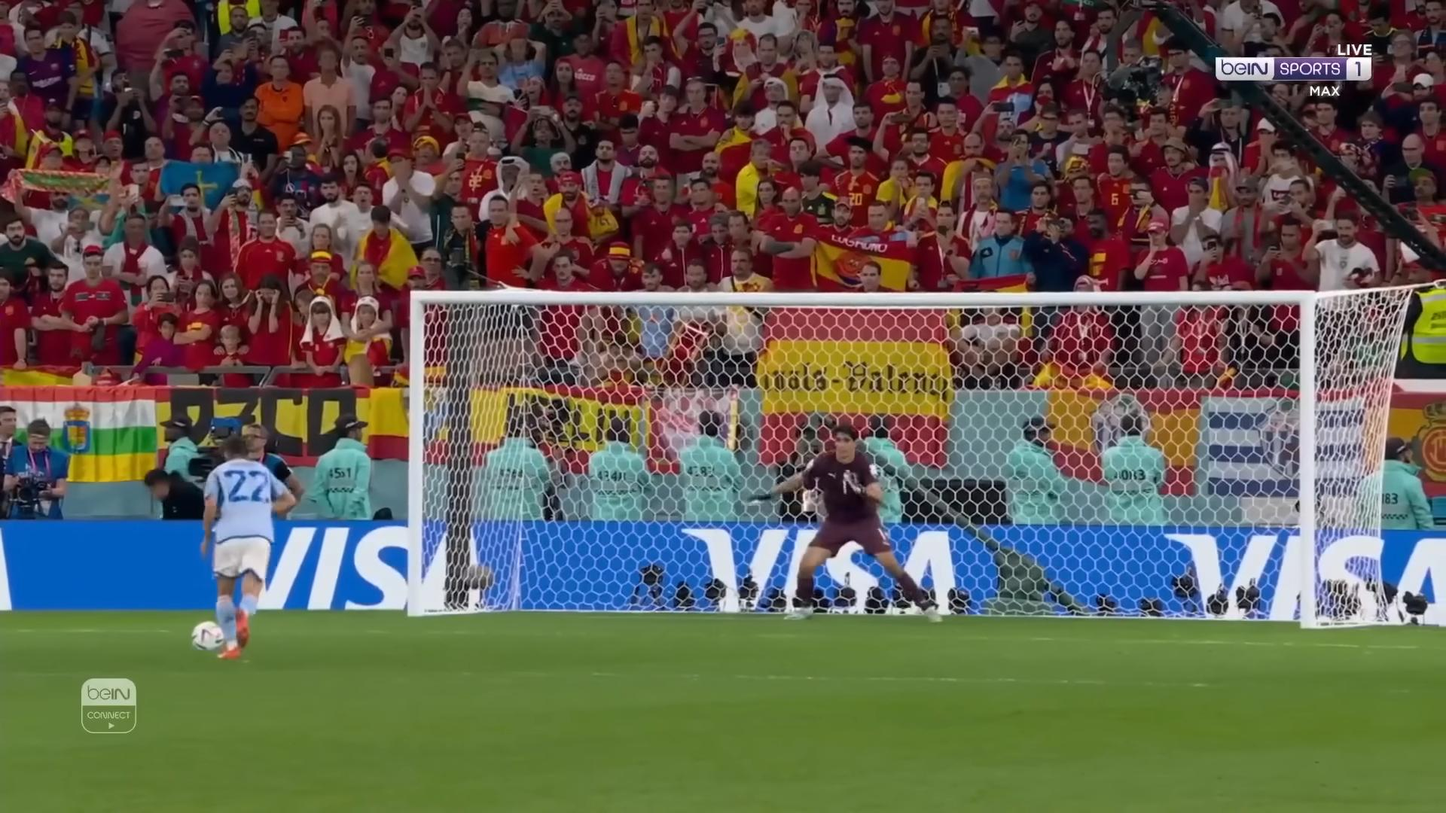Goalkeeper: (760, 423, 940, 621)
Player: (201, 435, 297, 661)
ball: (192, 621, 226, 652)
